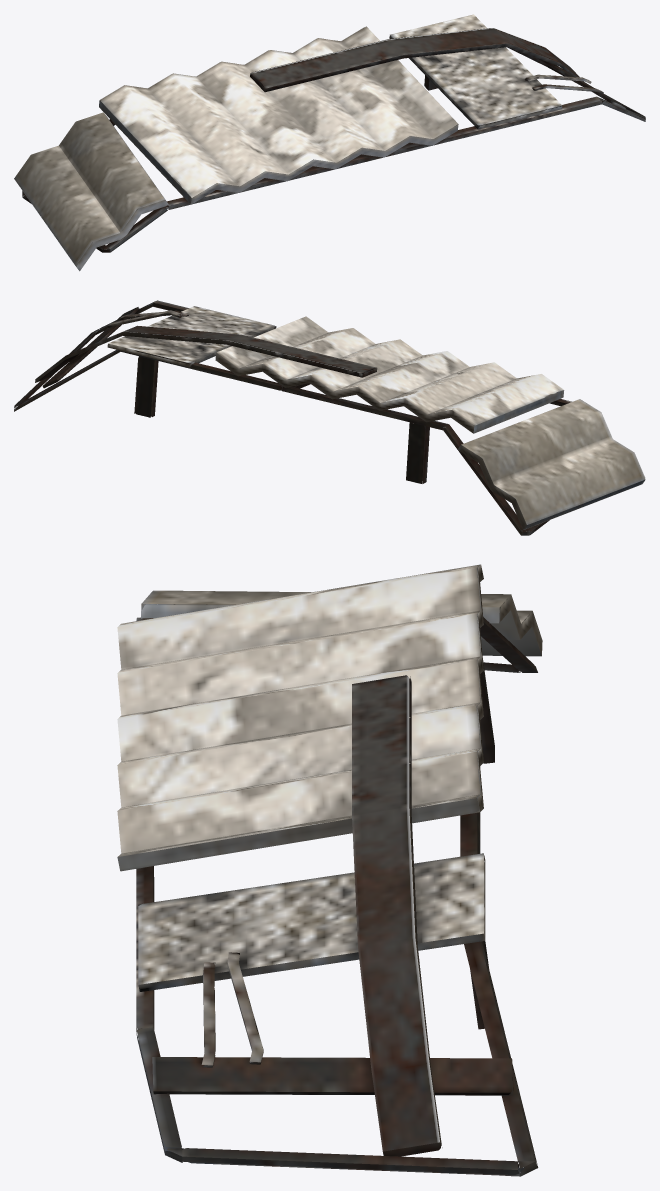
Rendered from FordTaurusBumper_WorldItem.fbx.
3 views of the same model, one above another, from view 1: azimuth 30°, elevation 25°; view 2: azimuth 150°, elevation 25°; view 3: azimuth 270°, elevation 25° (orthographic). The views are drawn at different scales.
Visible parts, largest first — view 1: FrontBumper_obj; view 2: FrontBumper_obj; view 3: FrontBumper_obj.
Boxes of the visible parts, x1,y1,x2,y2 form: FrontBumper_obj: [14, 14, 645, 271]; FrontBumper_obj: [14, 300, 645, 535]; FrontBumper_obj: [117, 564, 542, 1176].
Size of the model in its own units: 2.89 by 0.4948 by 0.9582.
